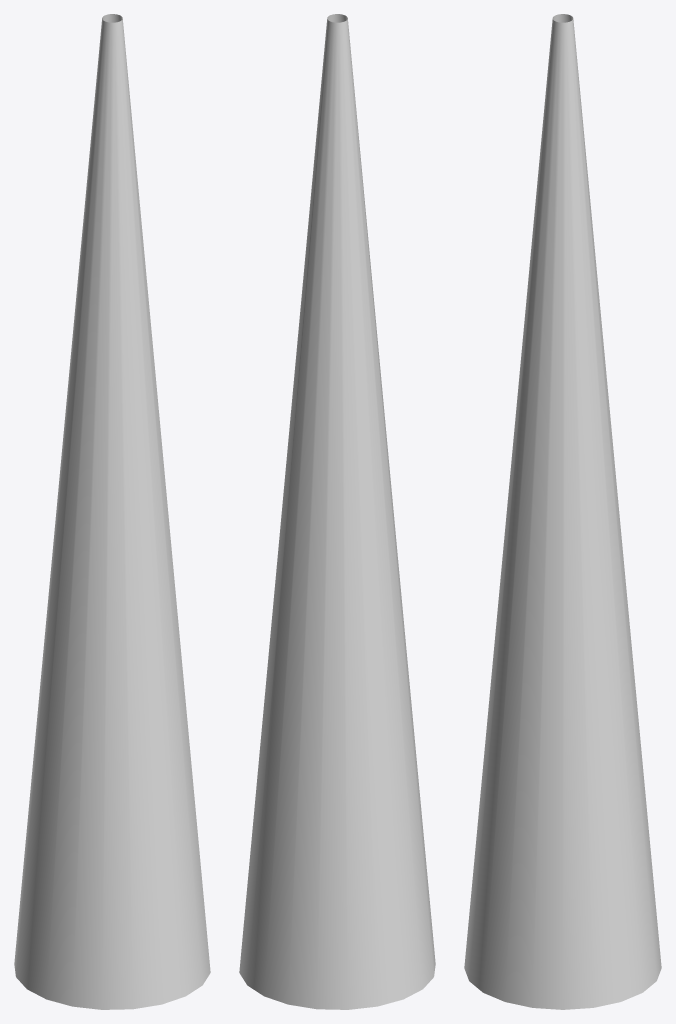
Rendered from beam_vrs1.fbx.
3 renders of one model, left to right at view 1: azimuth 30°, elevation 25°; view 2: azimuth 150°, elevation 25°; view 3: azimuth 270°, elevation 25°, orthographic.
Visible parts, largest first — view 1: polySurface1; view 2: polySurface1; view 3: polySurface1.
Boxes of the visible parts, left/top/right/bottom form: polySurface1: left=14, top=14, right=210, bottom=1009; polySurface1: left=239, top=14, right=435, bottom=1009; polySurface1: left=464, top=14, right=661, bottom=1009.
Bounding box in the file's own units: 2 × 10.62 × 2.
1 material, 1 textured.
